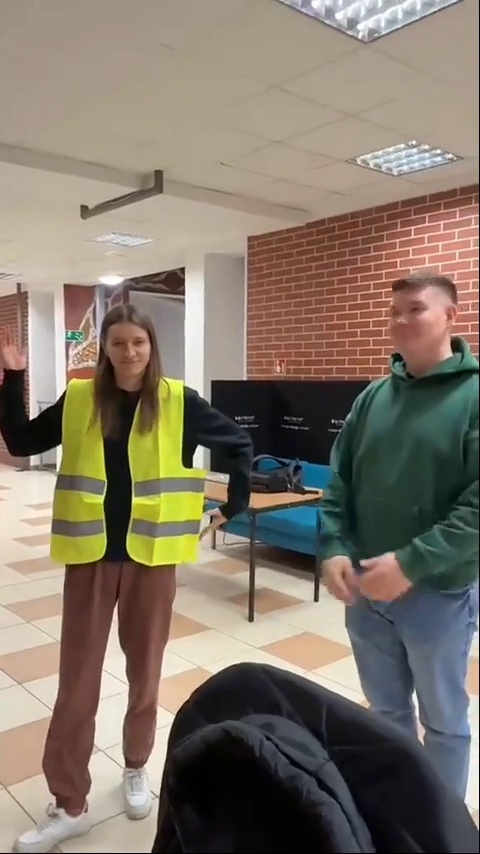no vest: (319, 276, 475, 752)
vest: (0, 295, 257, 843)
